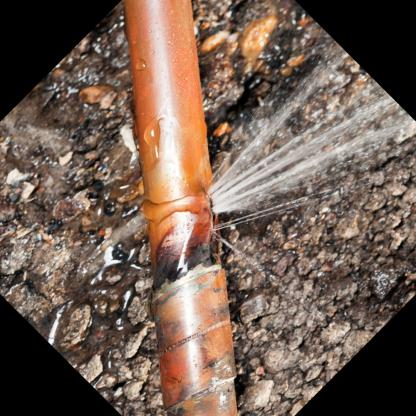burst: (172, 167, 256, 273)
